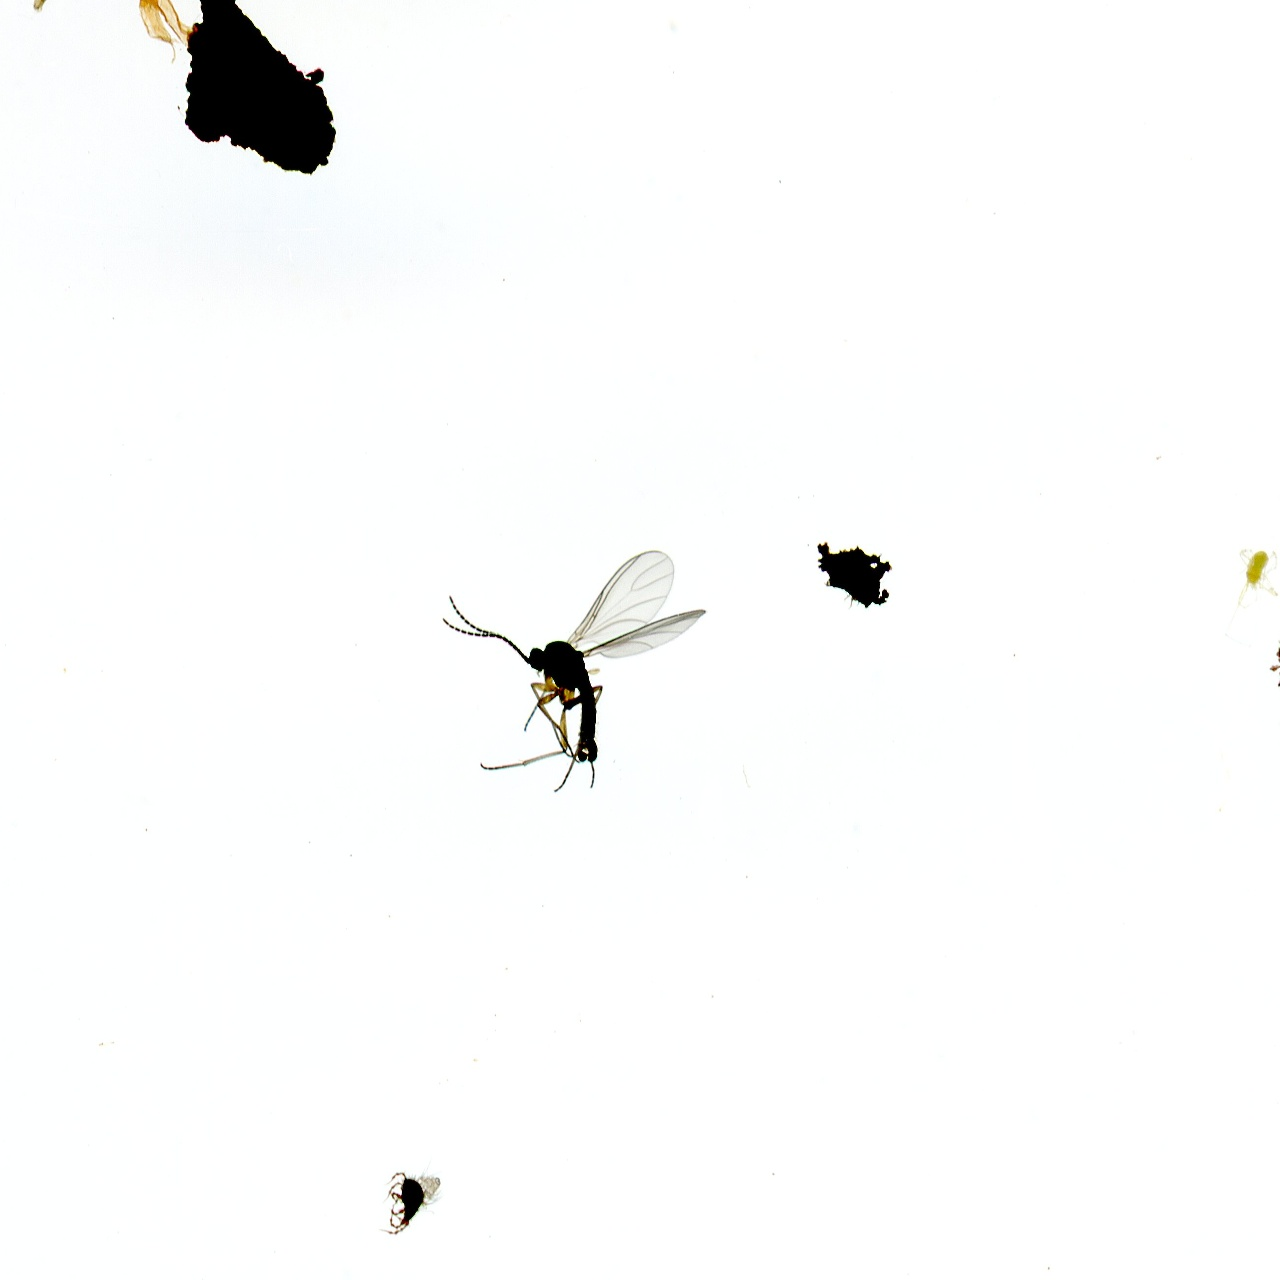arthropod: (421, 513, 751, 825), (1220, 544, 1280, 654), (377, 1158, 445, 1239), (1268, 632, 1280, 696)
